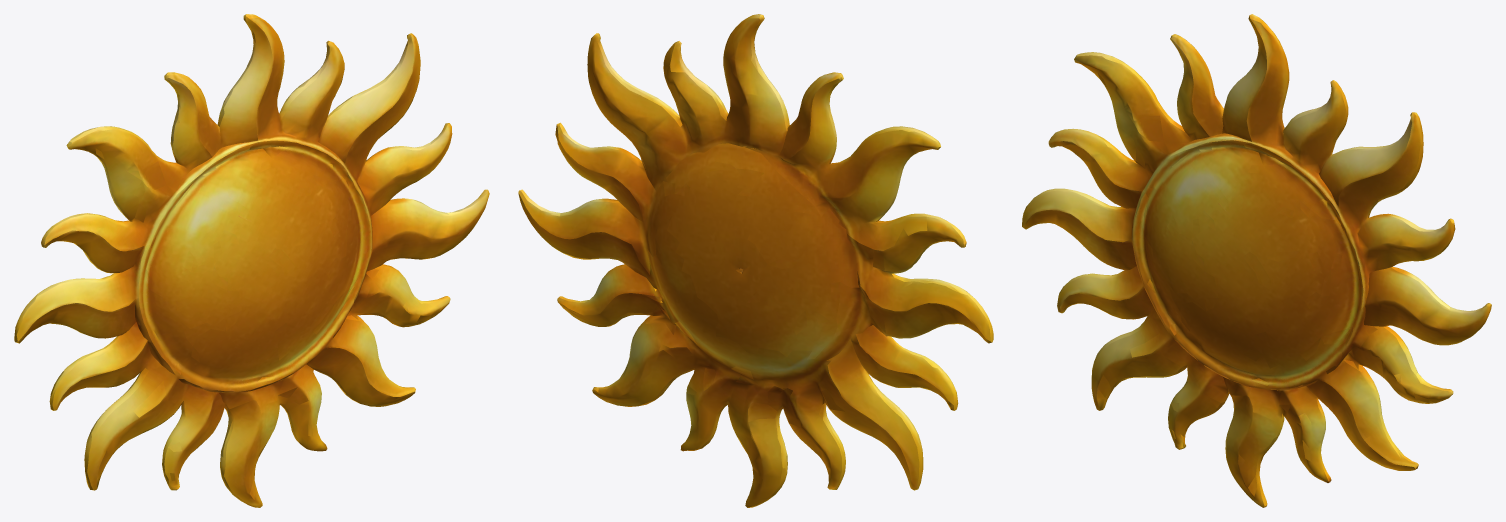
File: sun.glb
3 renders of one model, left to right at view 1: azimuth 30°, elevation 25°; view 2: azimuth 150°, elevation 25°; view 3: azimuth 330°, elevation 25°, orthographic.
Parts seen in each view (by area): view 1: geometry_0; view 2: geometry_0; view 3: geometry_0.
Boxes of the visible parts, x1,y1,x2,y2 form: geometry_0: (14, 14, 489, 507); geometry_0: (518, 14, 993, 507); geometry_0: (1022, 14, 1491, 507).
Size of the model in its own units: 0.15 by 0.1501 by 0.017.
1 material, 1 textured.
